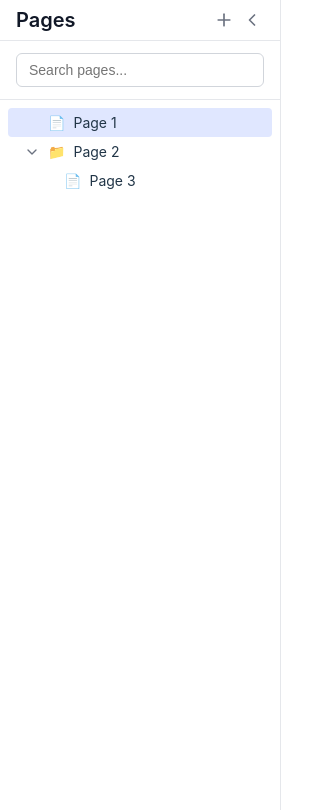
Test: Sidebar › should show hover buttons on page hover
Hover over the text "Page 1".
mouse_move(95, 122)  # box x1=74 y1=114 x2=117 y2=131
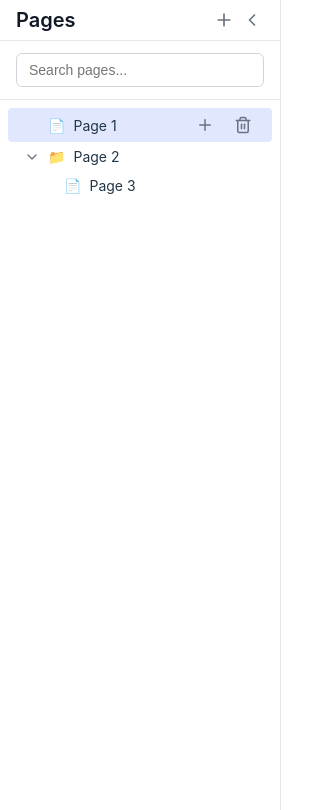
Result: the button titled "Create subpage" is shown at x1=192 y1=112 x2=218 y2=138
Result: the button titled "Delete page" is shown at x1=230 y1=112 x2=256 y2=138
